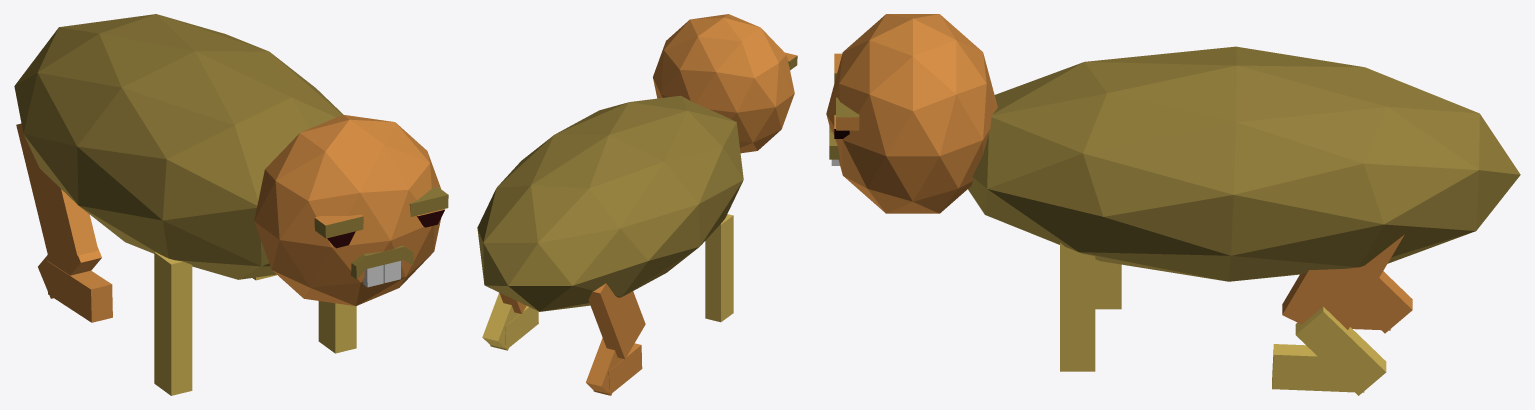
Rendered from Beaver.fbx.
The picture shows the model from 3 angles, left to right: view 1: azimuth 30°, elevation 25°; view 2: azimuth 150°, elevation 25°; view 3: azimuth 270°, elevation 25°; orthographic projection. The views are drawn at different scales.
Parts seen in each view (by area): view 1: Cube.004; view 2: Cube.004; view 3: Cube.004.
Boxes of the visible parts, x1,y1,x2,y2 form: Cube.004: [14, 14, 448, 395]; Cube.004: [477, 14, 797, 395]; Cube.004: [826, 14, 1520, 395].
Bounding box in the file's own units: 38.04 × 49.58 × 91.29.
